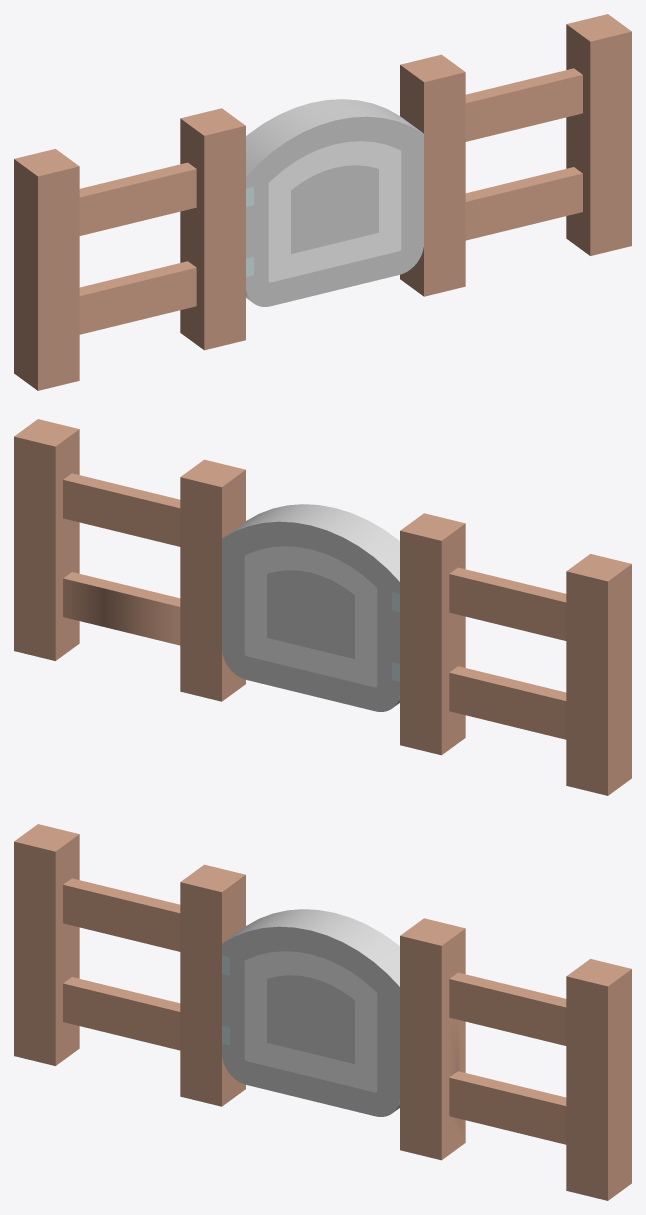
File: fence_gate.glb
3 renders of one model, top to bottom at view 1: azimuth 30°, elevation 25°; view 2: azimuth 150°, elevation 25°; view 3: azimuth 330°, elevation 25°, orthographic.
Parts seen in each view (by area): view 1: fence_gate, gate; view 2: fence_gate, gate; view 3: fence_gate, gate.
Part boxes in pixels (x1,y1,x2,y2): fence_gate: [14, 14, 631, 390]; gate: [246, 99, 423, 306]; fence_gate: [14, 419, 631, 795]; gate: [222, 504, 399, 711]; fence_gate: [14, 824, 631, 1200]; gate: [222, 909, 399, 1116].
Bounding box in the file's own units: 1.2 × 0.414 × 0.084.
